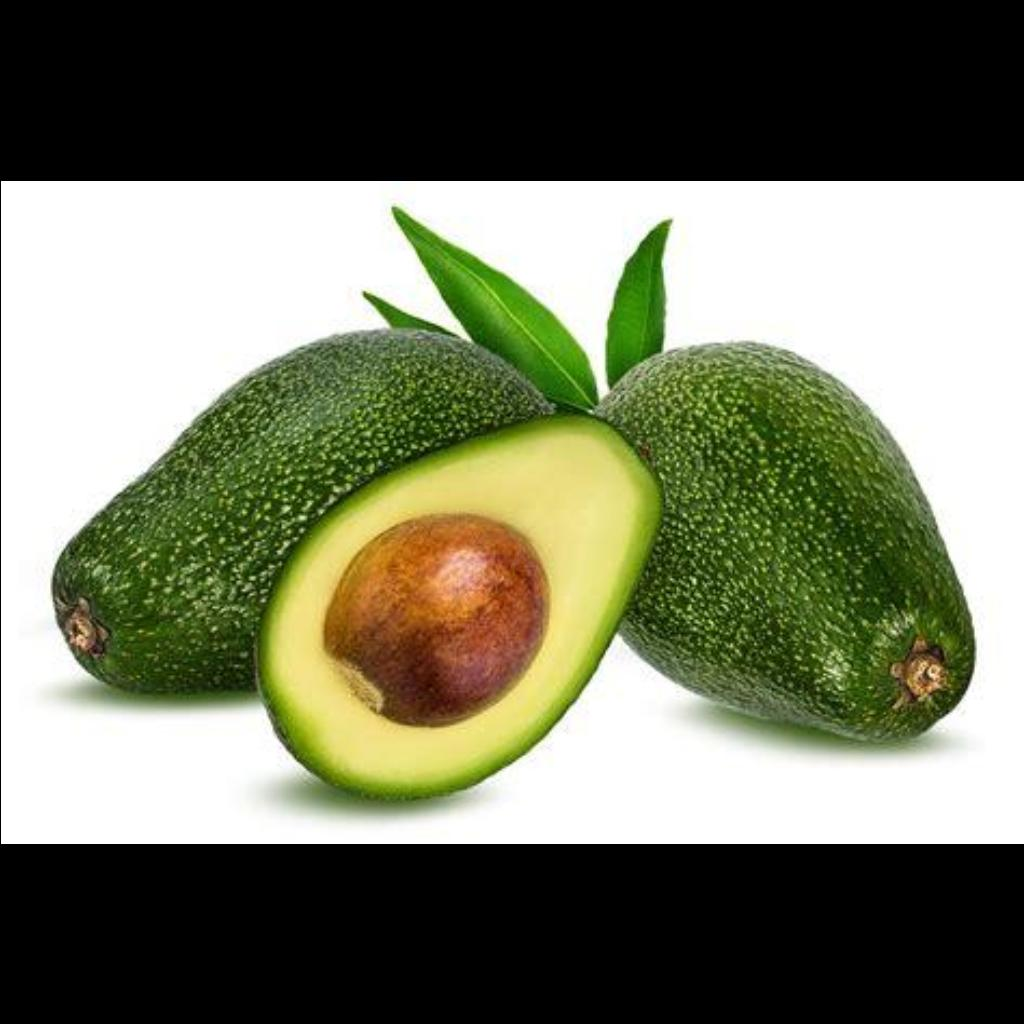fruto_sano: (9, 342, 659, 792), (607, 305, 981, 748)
